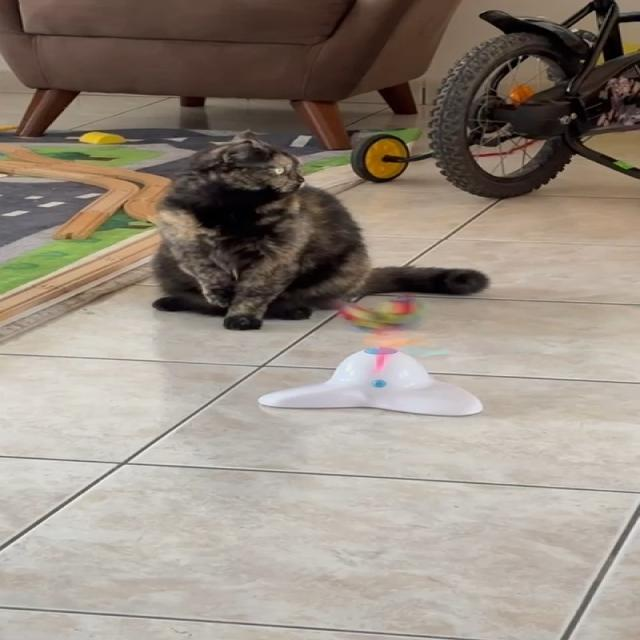authorized: (150, 129, 490, 331)
